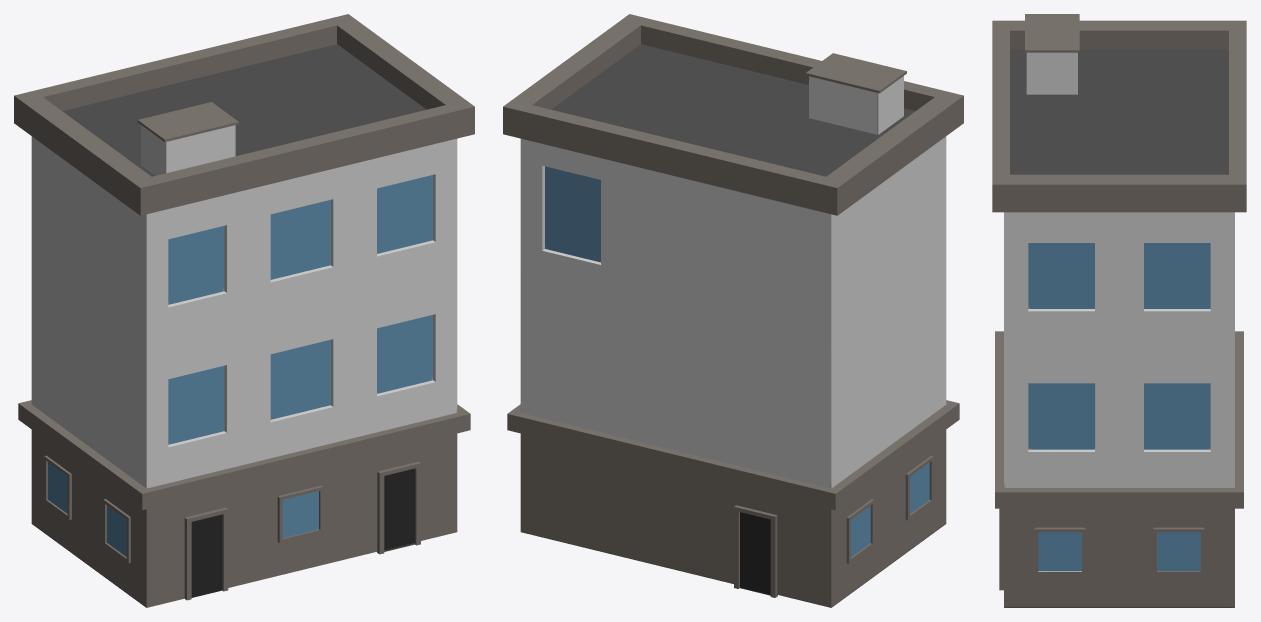
Rendered from CityBuilding12.glb.
3 renders of one model, left to right at view 1: azimuth 30°, elevation 25°; view 2: azimuth 150°, elevation 25°; view 3: azimuth 270°, elevation 25°, orthographic.
Visible parts, largest first — view 1: CityBuilding12; view 2: CityBuilding12; view 3: CityBuilding12.
Part boxes in pixels (left/top/right/bottom): CityBuilding12: left=14, top=14, right=474, bottom=607; CityBuilding12: left=503, top=14, right=963, bottom=607; CityBuilding12: left=992, top=14, right=1246, bottom=607.
Size of what is drawn, in the model's own units: 8.18 by 10.64 by 5.36.
Materials: 1 (1 with a texture image).
